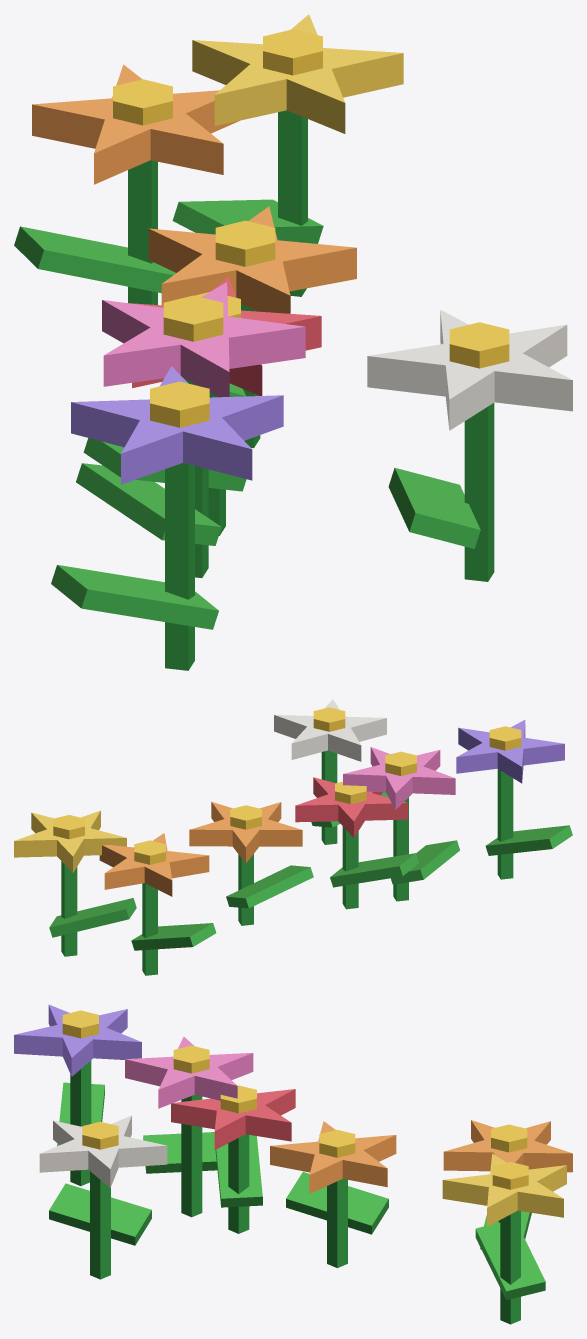
Rendered from Flowers_2.glb.
3 renders of one model, top to bottom at view 1: azimuth 30°, elevation 25°; view 2: azimuth 150°, elevation 25°; view 3: azimuth 270°, elevation 25°, orthographic. The views are drawn at different scales.
Parts seen in each view (by area): view 1: Flowers_2; view 2: Flowers_2; view 3: Flowers_2.
Part boxes in pixels (x1,y1,x2,y2): Flowers_2: [14, 14, 572, 670]; Flowers_2: [14, 699, 572, 975]; Flowers_2: [14, 1004, 572, 1324].
Bounding box in the file's own units: 4.5 × 1.72 × 5.35.
Materials: 1 (1 with a texture image).
